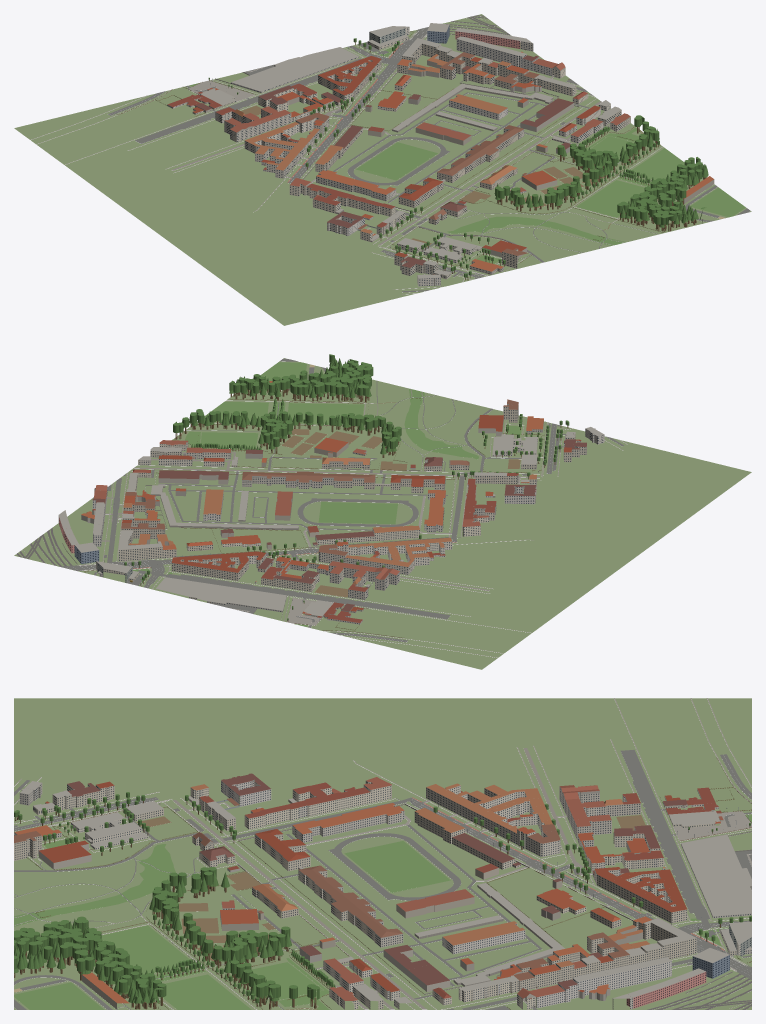
3 views of the same model, one above another, from view 1: azimuth 30°, elevation 25°; view 2: azimuth 150°, elevation 25°; view 3: azimuth 270°, elevation 25° (orthographic). The views are drawn at different scales.
Size of the model in its own units: 750 by 22.99 by 750.
3 materials, 1 textured.
